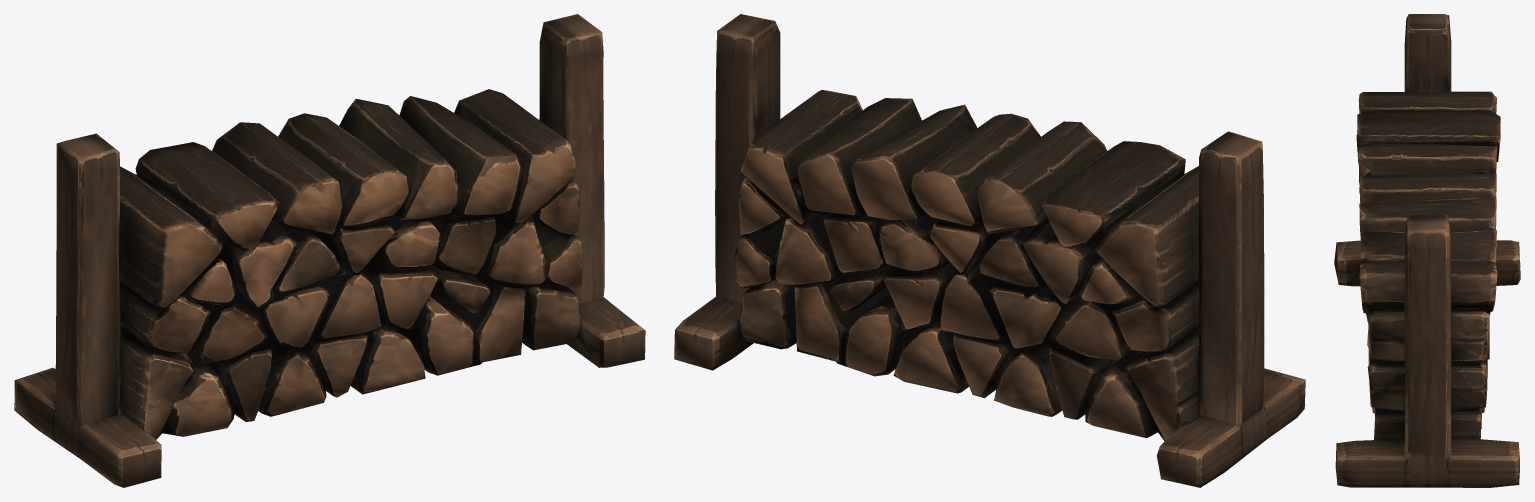
The model's file is o23_rafli_odun_istifi.glb.
3 views of the same model, side by side, from view 1: azimuth 30°, elevation 25°; view 2: azimuth 150°, elevation 25°; view 3: azimuth 270°, elevation 25° (orthographic). The views are drawn at different scales.
Size of the model in its own units: 1.92 by 1.05 by 0.6872.
1 material, 1 textured.
